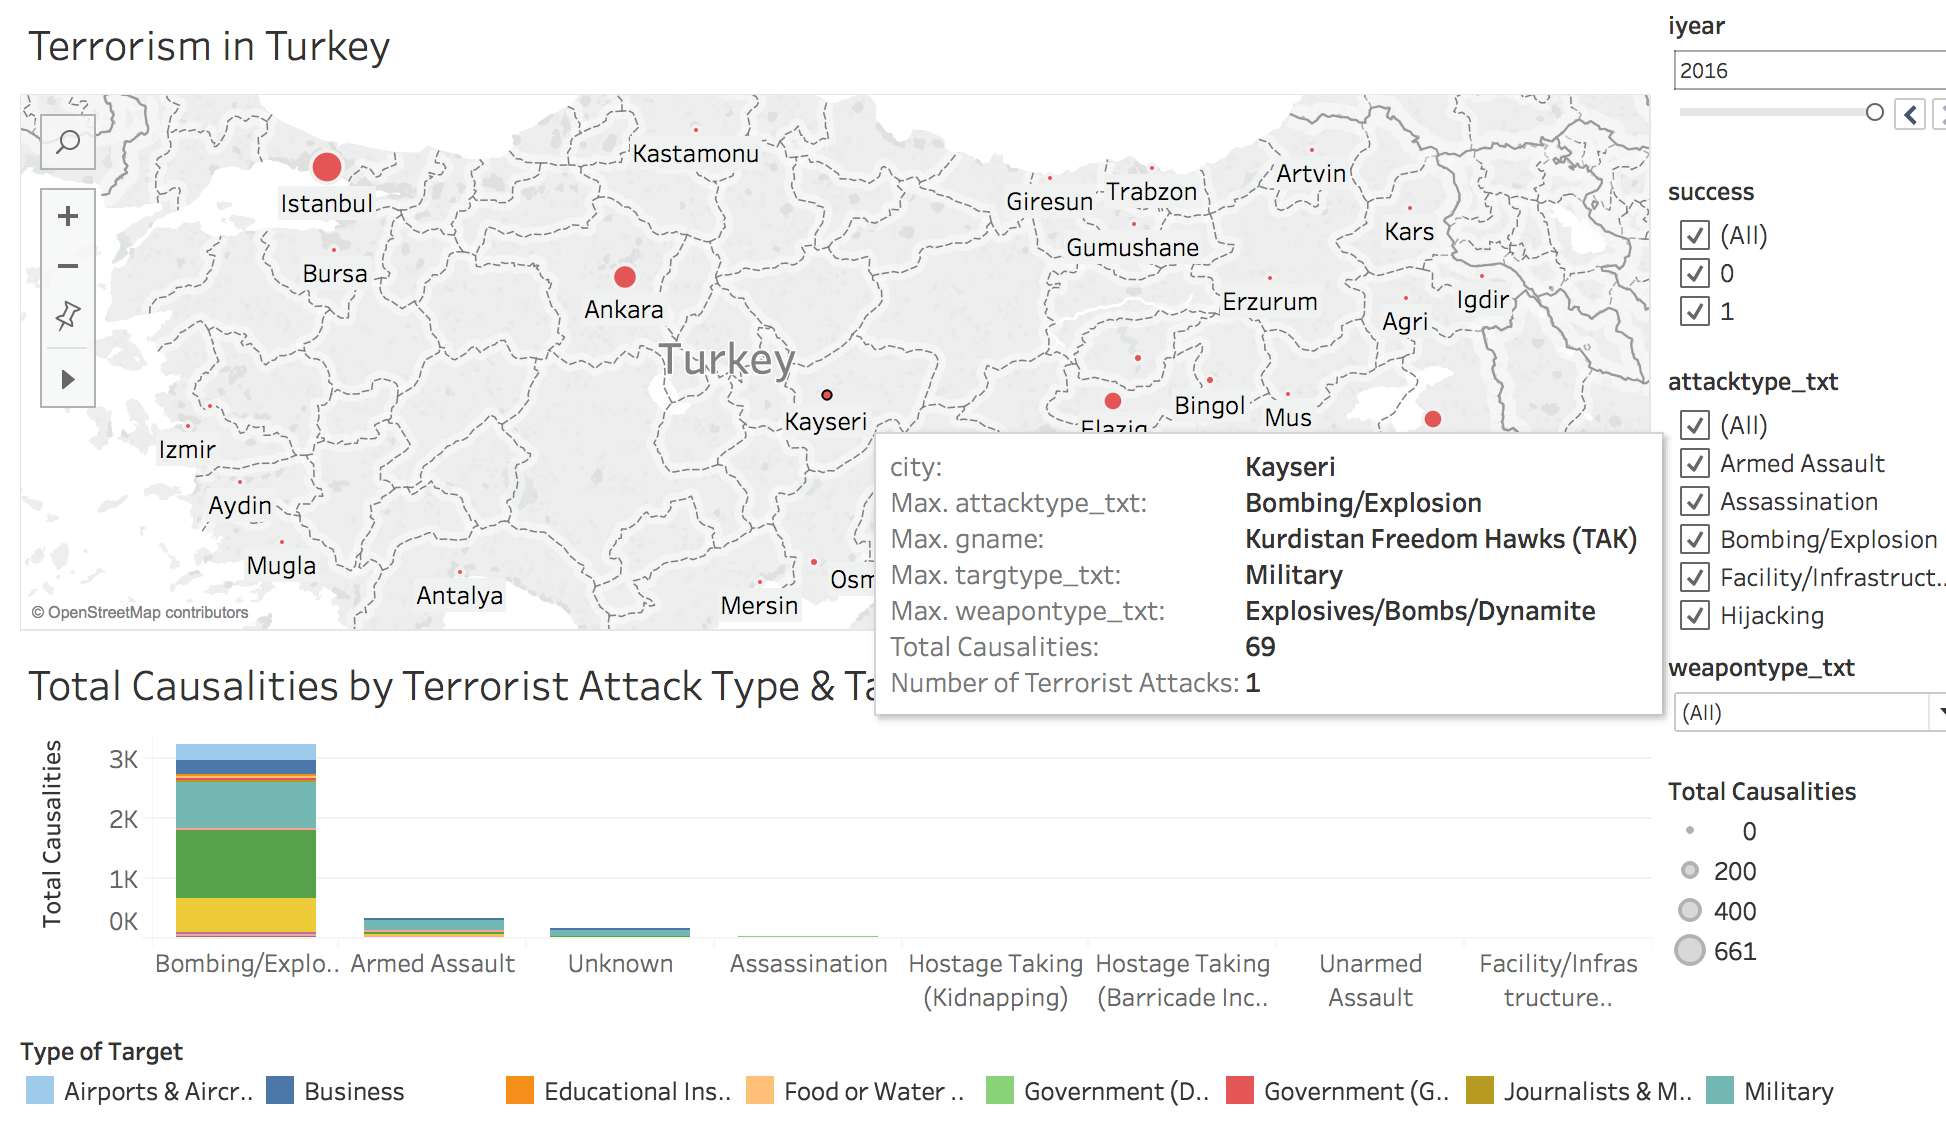

Layout of this report page (visuals, bound fields, positions):
{"tool":"tableau","page":{"name":"Dashboard 1","canvas":[1000,800],"ordinal":0},"visuals":[{"type":"worksheet","title":"Sheet 1","mark":"Automatic","rows":["latitude"],"cols":["longitude"],"box":[8,8,824,784]},{"type":"filter","title":"Sheet 1","param":"[federated.0r33ruc1mmh9n51cb5izi0kvz6ea].[none:iyear:ok]","box":[832,8,160,75]},{"type":"filter","title":"Sheet 1","param":"[federated.0r33ruc1mmh9n51cb5izi0kvz6ea].[none:success:ok]","box":[832,83,160,89]},{"type":"filter","title":"Sheet 1","param":"[federated.0r33ruc1mmh9n51cb5izi0kvz6ea].[none:attacktype_txt:nk]","box":[832,172,160,52]},{"type":"legend","title":"Sheet 1","param":"[federated.0r33ruc1mmh9n51cb5izi0kvz6ea].[none:attacktype_txt:nk]","box":[832,224,160,126]},{"type":"legend","title":"Sheet 1","param":"[federated.0r33ruc1mmh9n51cb5izi0kvz6ea].[sum:Calculation_5759541039107858432:qk","box":[832,350,160,166]}]}

Visuals, with their boxes on the page's 1000x800 design canvas (x1, y1, x2, y2). These are canvas units, not pixel positions in the 1946x1136 screenshot, which may show the page scaled, cropped or inside an application window:
"Sheet 1" worksheet: <bbox>8, 8, 832, 792</bbox>
"Sheet 1" filter: <bbox>832, 8, 992, 83</bbox>
"Sheet 1" filter: <bbox>832, 83, 992, 172</bbox>
"Sheet 1" filter: <bbox>832, 172, 992, 224</bbox>
"Sheet 1" legend: <bbox>832, 224, 992, 350</bbox>
"Sheet 1" legend: <bbox>832, 350, 992, 516</bbox>
